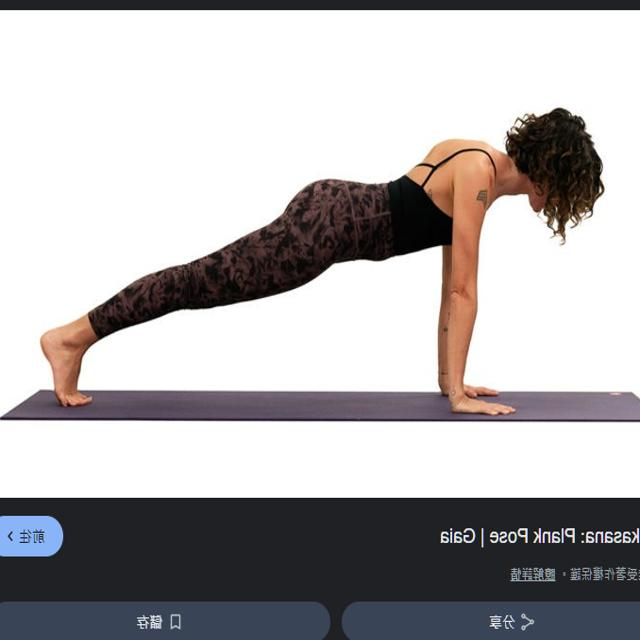Plank_Pose: (26, 106, 614, 421)
